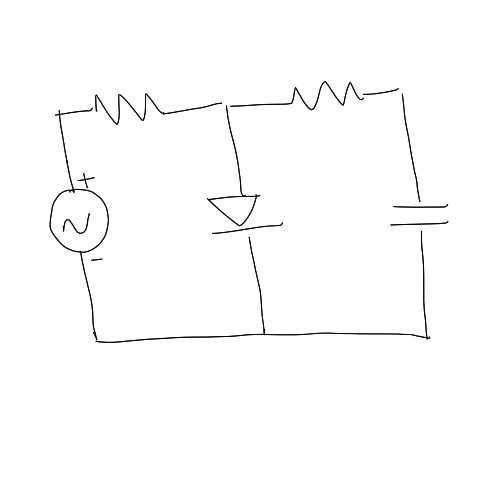acvs: (46, 170, 114, 265)
cap: (385, 198, 465, 236)
dio: (204, 185, 286, 243)
res: (278, 80, 377, 115), (83, 94, 171, 126)
